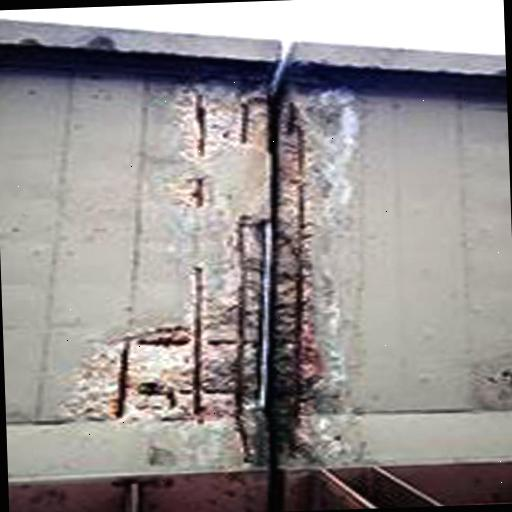spalling: (56, 83, 331, 420)
